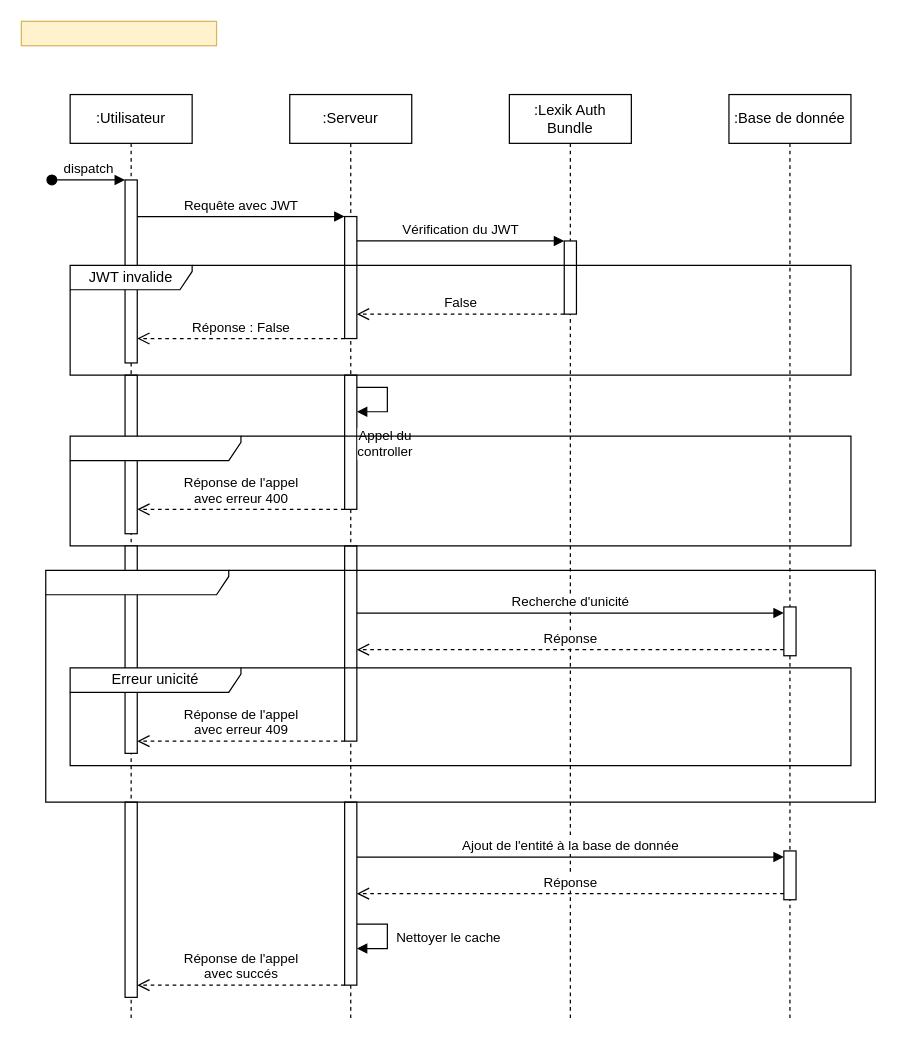
Some shapes in this 897 by 1043 pixel diagram are drawn without their labels. The centre of each missing label's shape, as x and y in pixels:
"Ajout entité" belongs at (118,33).
"Manque argument(s)" belongs at (460,490).
"Paramètre d'unicité" belongs at (460,685).
